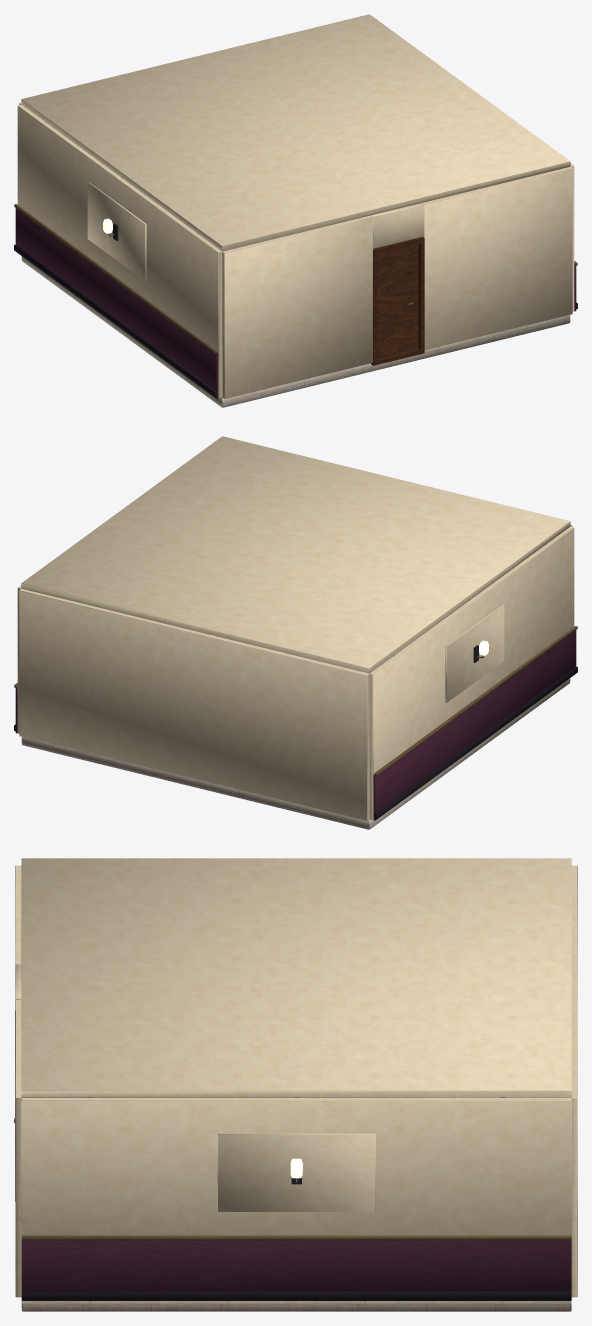
The model's file is explore3d__laundry_room.glb.
The picture shows the model from 3 angles, top to bottom: view 1: azimuth 30°, elevation 25°; view 2: azimuth 150°, elevation 25°; view 3: azimuth 270°, elevation 25°; orthographic projection. The views are drawn at different scales.
Visible parts, largest first — view 1: Rebuilt_laundry_room; view 2: Rebuilt_laundry_room; view 3: Rebuilt_laundry_room.
Boxes of the visible parts, x1,y1,x2,y2 form: Rebuilt_laundry_room: (14,14,577,407); Rebuilt_laundry_room: (14,436,577,829); Rebuilt_laundry_room: (14,858,577,1311).
Size of the model in its own units: 8.79 by 3.56 by 8.2.
Materials: 16 (14 with a texture image).
